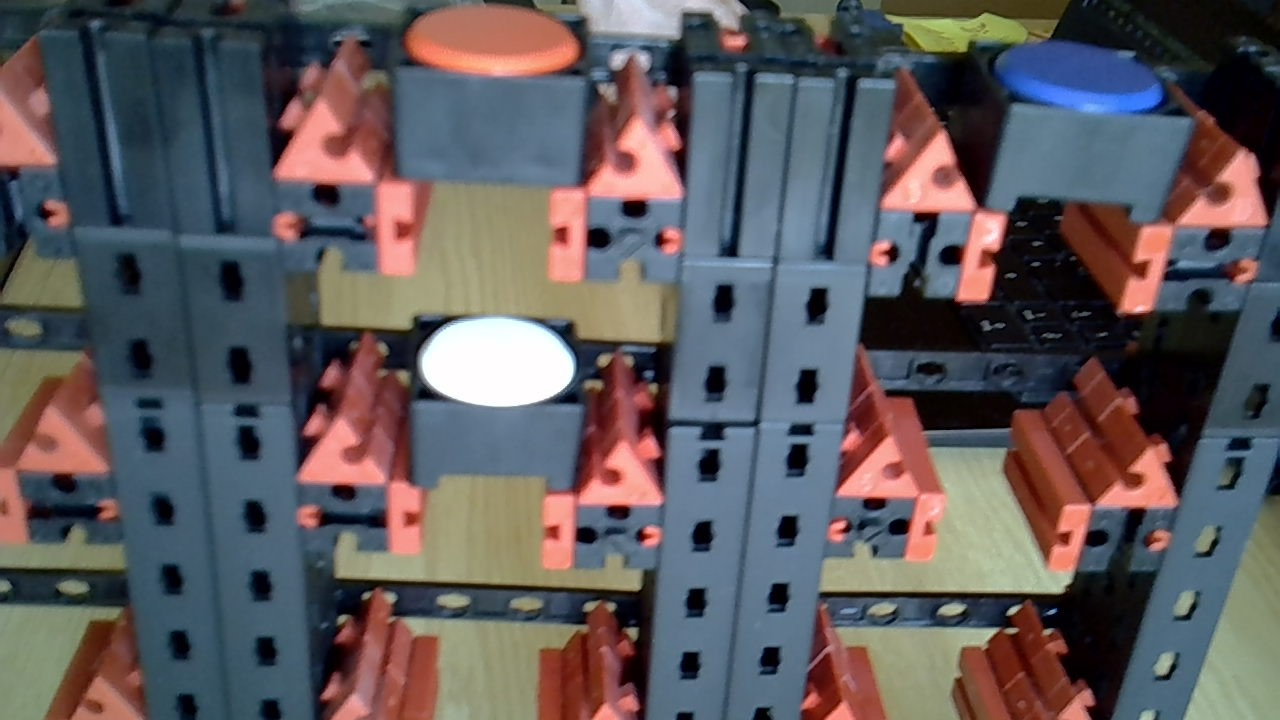Behaelter: (961, 41, 1186, 224), (391, 13, 594, 182), (406, 314, 577, 487)
WerkStueck: (418, 315, 578, 406), (402, 2, 580, 75), (994, 44, 1166, 111)
